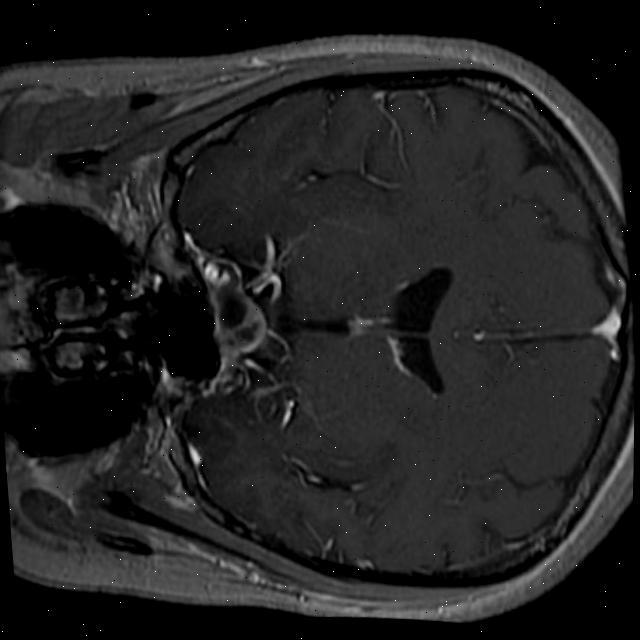Pituitary: (204, 275, 271, 370)
